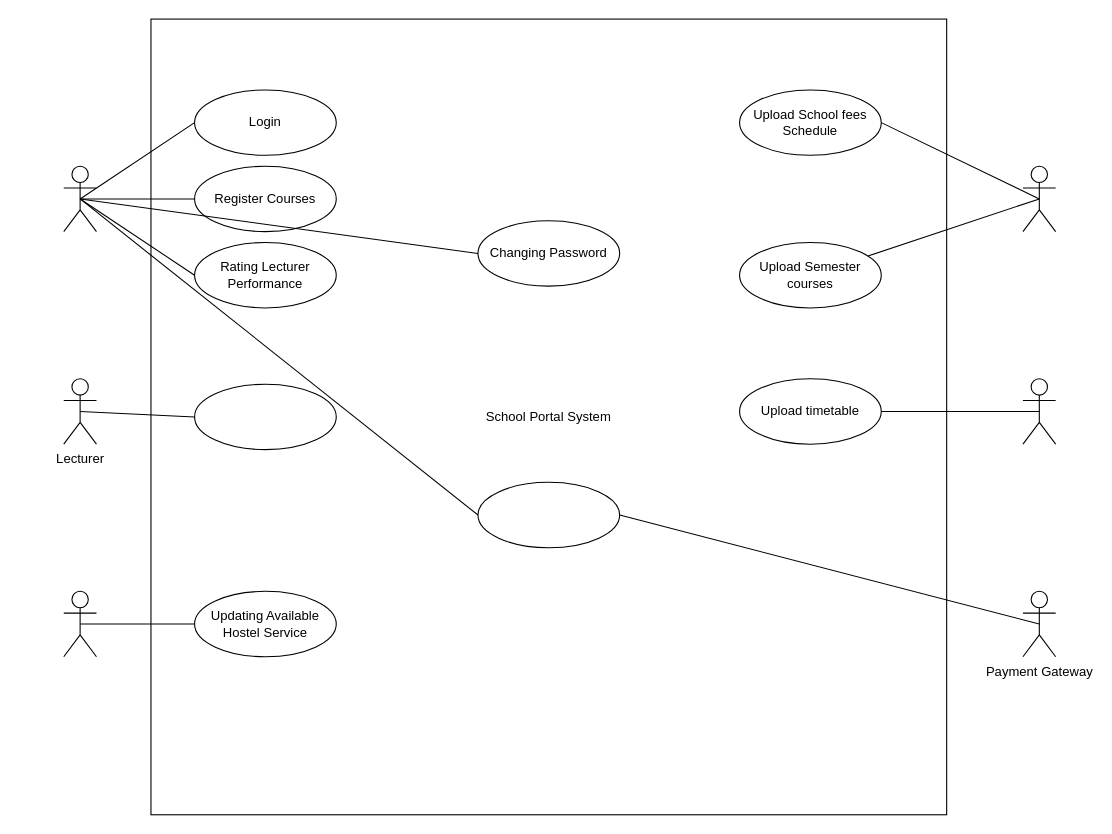
Image size: 1112x834. Some labels were removed from this diagram. Here are the shapes that lost their labels. From the top down, the box of each, then its label:
(63, 165, 96, 232): Student
(1022, 165, 1056, 232): Admin/IT
(193, 383, 336, 450): Upload Result
(1022, 378, 1056, 444): HOD
(477, 481, 620, 548): Pay School Fees
(63, 590, 96, 657): Hostel Accomodation
